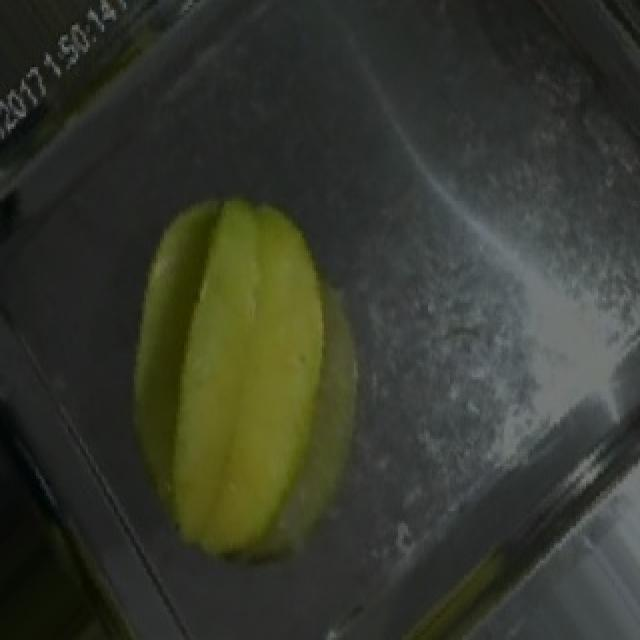fruit: (122, 169, 454, 625)
